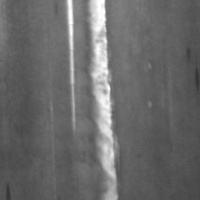scratches: (78, 6, 121, 199), (64, 8, 81, 136)
